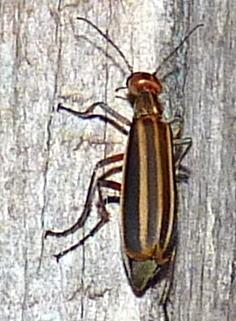blister_beetle: (15, 0, 236, 321)
